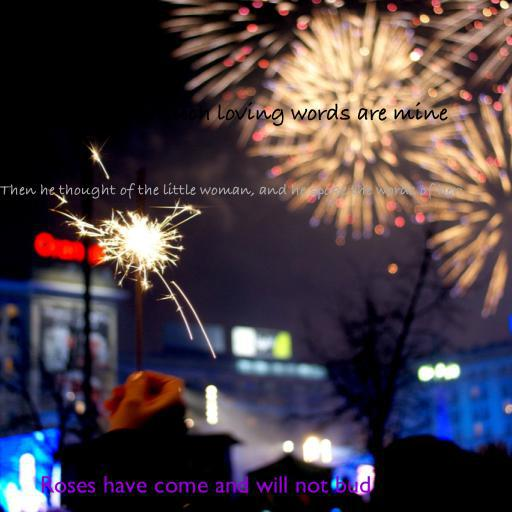Bradley Hand: (0, 182, 463, 200), (122, 102, 448, 126)
Gill Sans: (39, 476, 371, 493)
